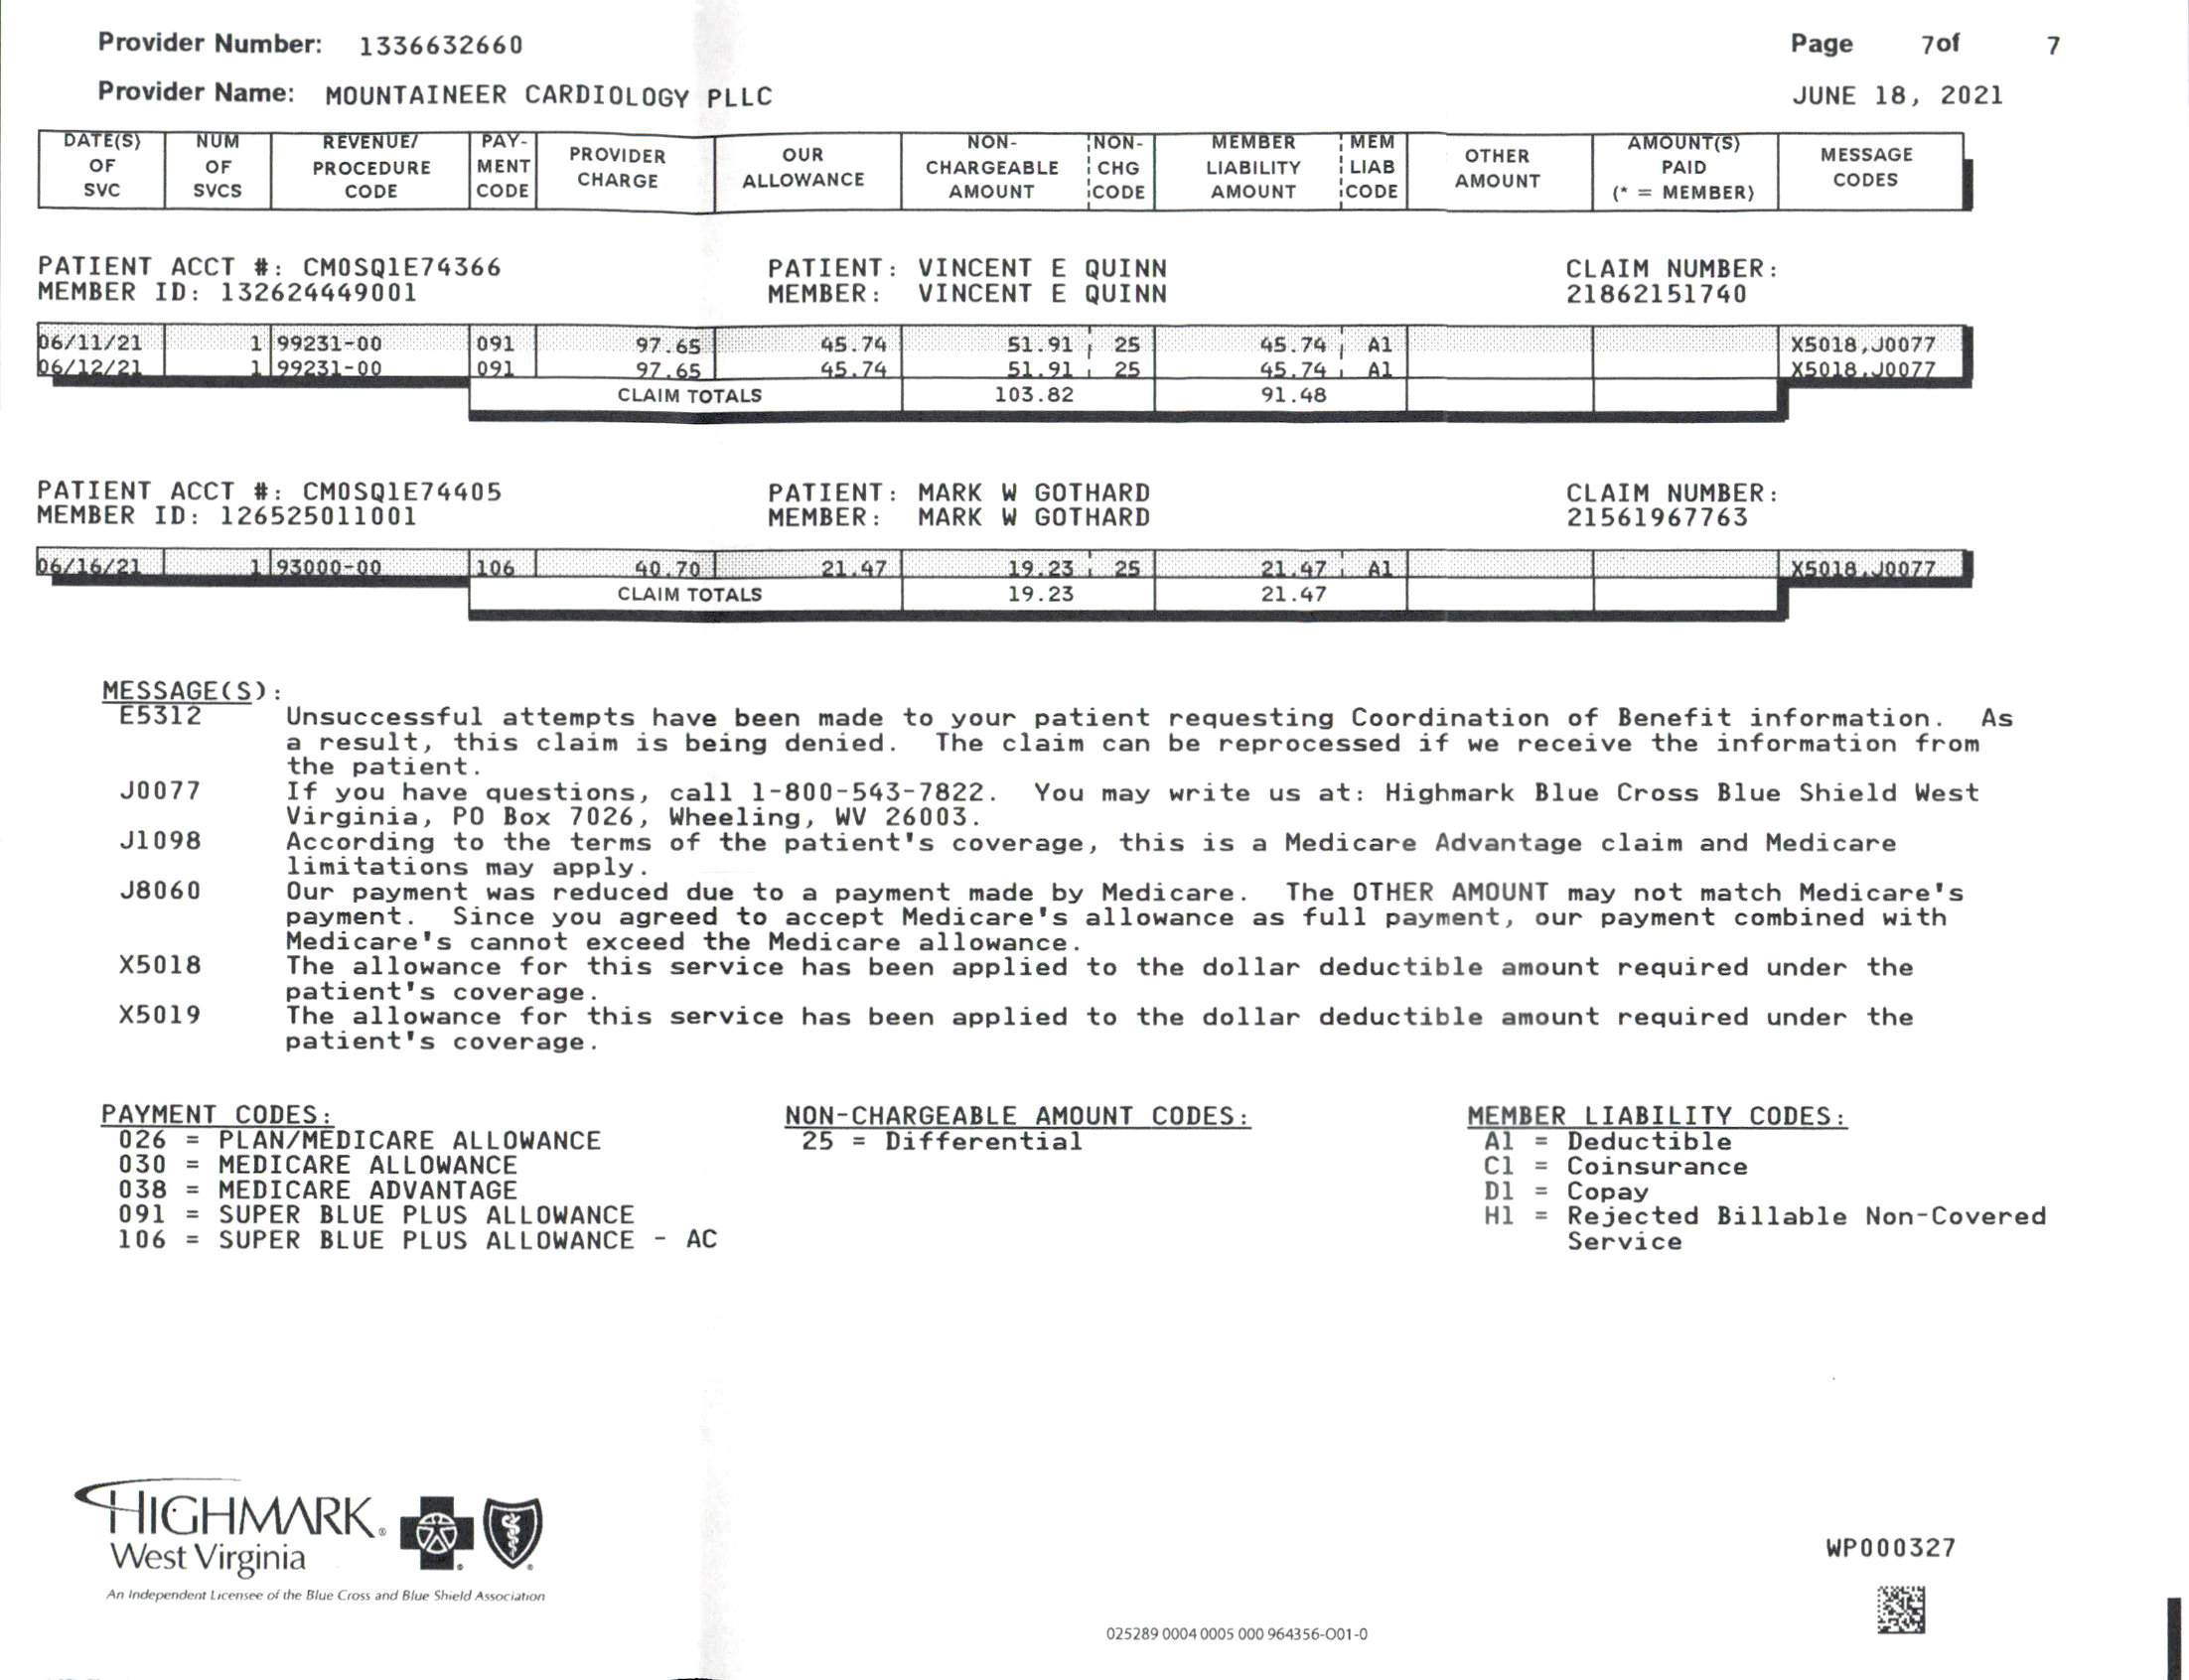table: (32, 115, 1981, 625)
